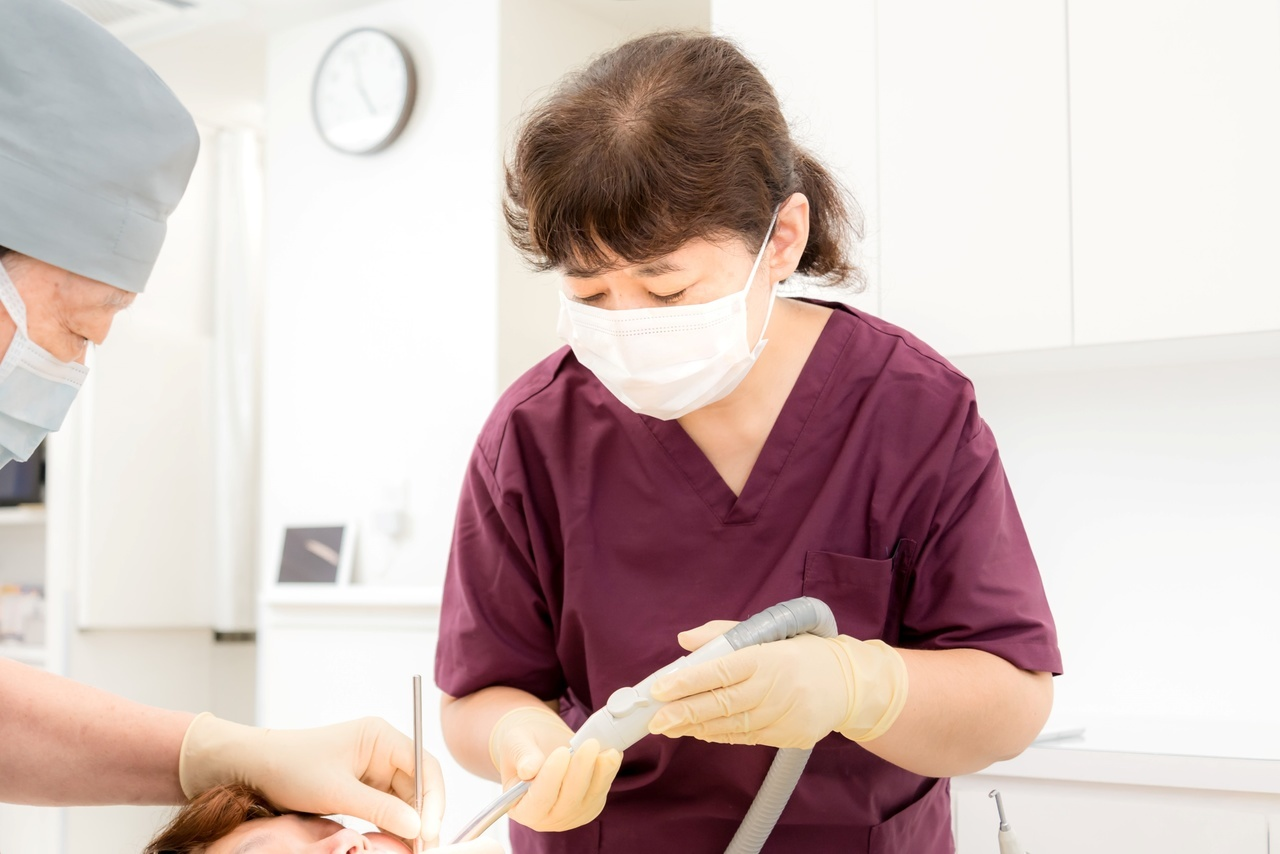mask: (564, 298, 768, 419)
